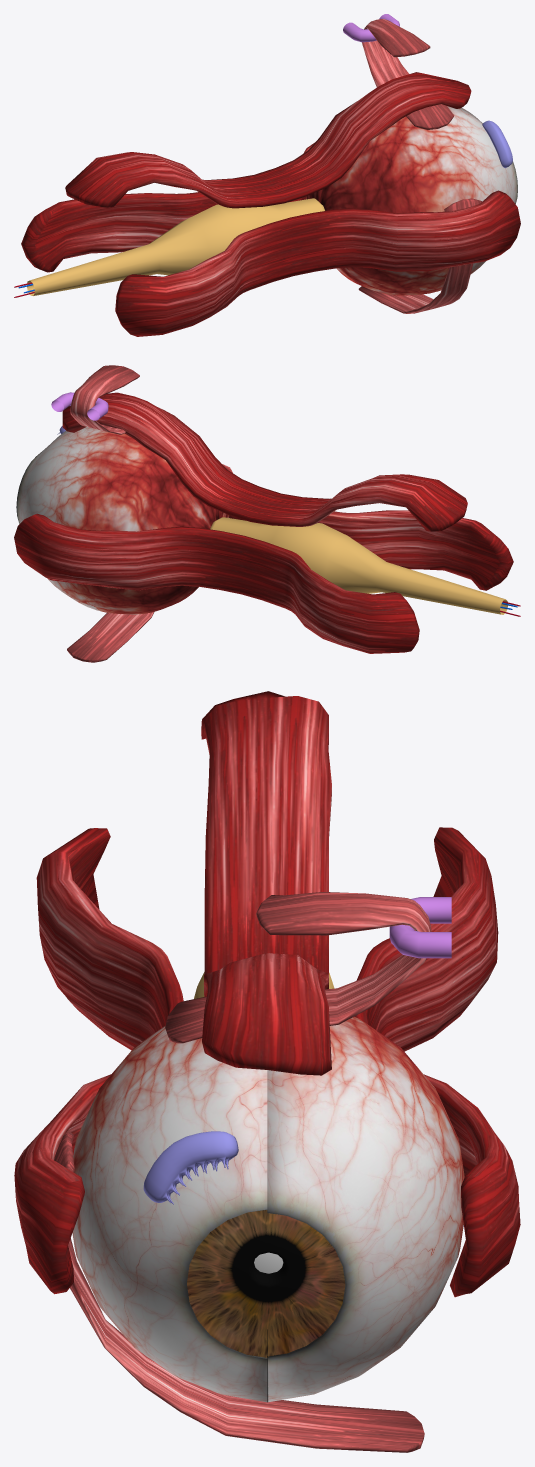
The model's file is Olho.gltf.
The picture shows the model from 3 angles, top to bottom: view 1: azimuth 30°, elevation 25°; view 2: azimuth 150°, elevation 25°; view 3: azimuth 270°, elevation 25°; orthographic projection. The views are drawn at different scales.
Visible parts, largest first — view 1: Fibra muscular 01.003, cornea.001, Fibra muscular 01.001, Fibra muscular 01.002, Nervo otico, Fibra muscular 02.001, Fibra muscular 02, Glandula lacrimal, Block; view 2: Fibra muscular 01.002, cornea.002, Fibra muscular 01.001, Nervo otico, Fibra muscular 01.003, Fibra muscular 02, Fibra muscular 02.001, Block; view 3: cornea.002, cornea.001, Fibra muscular 01.001, Fibra muscular 01.003, Fibra muscular 01.002, Iris, Fibra muscular 02, Fibra muscular 02.001, Glandula lacrimal, Block.
Part boxes in pixels (x1,y1,x2,y2): Fibra muscular 01.003: (115, 190, 520, 336); cornea.001: (320, 106, 517, 295); Fibra muscular 01.001: (65, 72, 471, 208); Fibra muscular 01.002: (21, 142, 314, 272); Nervo otico: (27, 198, 324, 295); Fibra muscular 02.001: (362, 19, 454, 129); Fibra muscular 02: (358, 198, 482, 313); Glandula lacrimal: (482, 120, 512, 168); Block: (343, 14, 399, 42); Fibra muscular 01.002: (14, 513, 419, 653); cornea.002: (16, 427, 214, 614); Fibra muscular 01.001: (62, 392, 467, 531); Nervo otico: (210, 517, 507, 614); Fibra muscular 01.003: (222, 464, 513, 590); Fibra muscular 02: (67, 612, 154, 662); Fibra muscular 02.001: (70, 365, 139, 434); Block: (51, 392, 108, 420); cornea.002: (267, 1016, 464, 1402); cornea.001: (72, 1026, 267, 1402); Fibra muscular 01.001: (201, 691, 331, 1075); Fibra muscular 01.003: (14, 828, 183, 1294); Fibra muscular 01.002: (354, 827, 520, 1297); Iris: (187, 1210, 345, 1357); Fibra muscular 02: (54, 1131, 424, 1452); Fibra muscular 02.001: (165, 892, 431, 1043); Glandula lacrimal: (143, 1131, 238, 1204); Block: (389, 897, 451, 958).
Size of the model in its own units: 5.47 by 2.83 by 2.4.
Materials: 13 (5 with a texture image).
